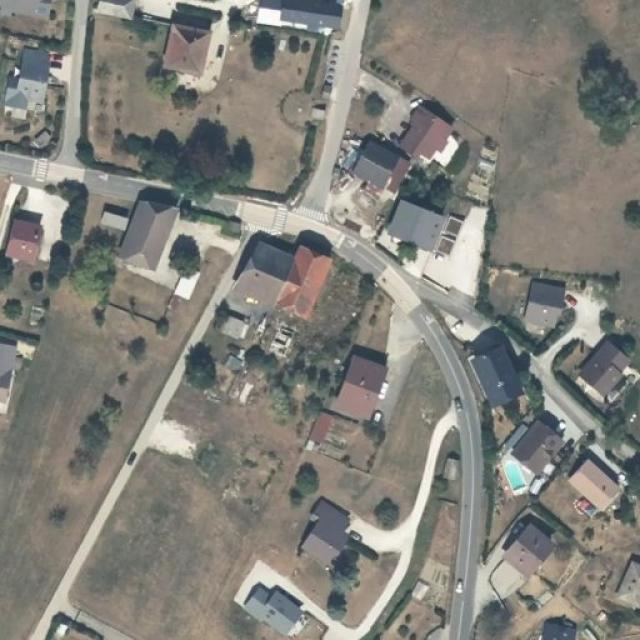maison: (226, 235, 338, 326), (111, 194, 184, 280), (156, 0, 225, 83), (336, 133, 414, 196), (383, 195, 458, 258), (330, 342, 397, 412), (2, 42, 56, 128), (293, 496, 357, 566), (247, 0, 351, 42), (576, 334, 638, 402), (493, 513, 560, 575), (468, 338, 522, 407), (512, 406, 568, 470), (396, 92, 452, 153), (4, 207, 48, 278), (246, 584, 306, 636), (572, 451, 628, 504), (524, 281, 568, 331)
piscine: (497, 457, 528, 495)
